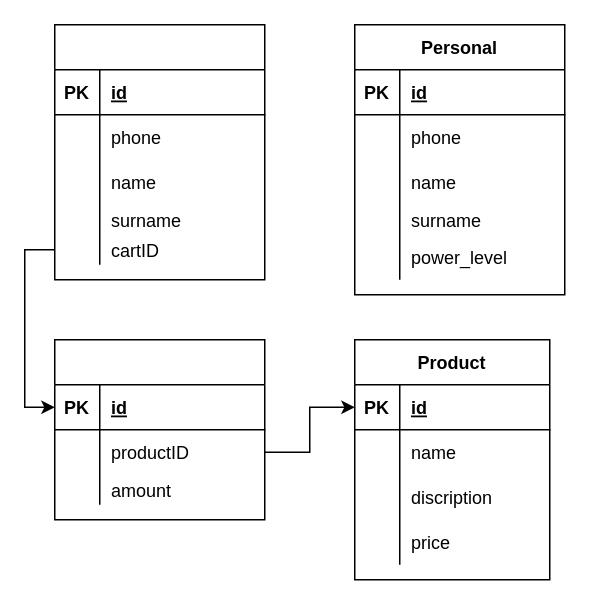
Some shapes in this 590 by 605 pixel diagram are drawn without their labels. Here are the shapes that lost their labels. From the top down, the box of each, then its label:
(53, 23, 265, 280): User
(53, 338, 265, 520): Cart
